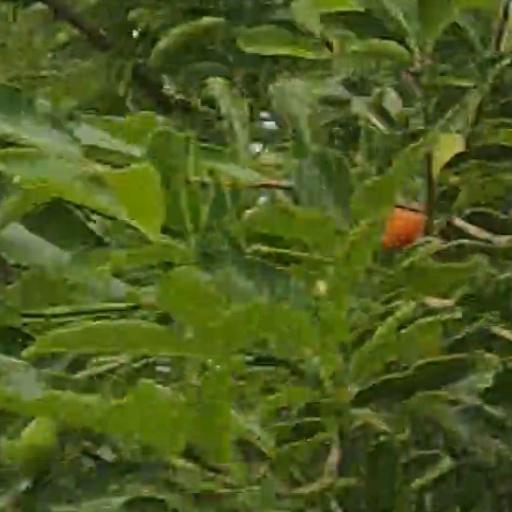acerola_vermelha: (384, 206, 422, 246)
